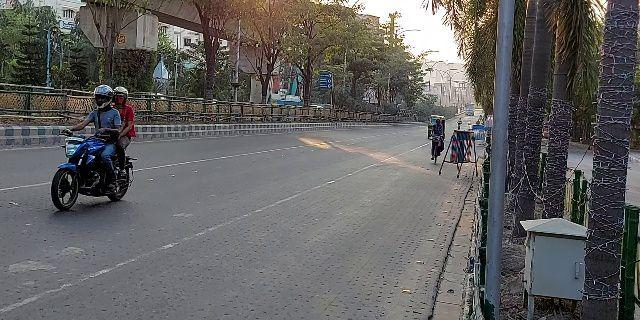Cycle: (429, 110, 447, 171)
Motorbike: (46, 80, 137, 216)
